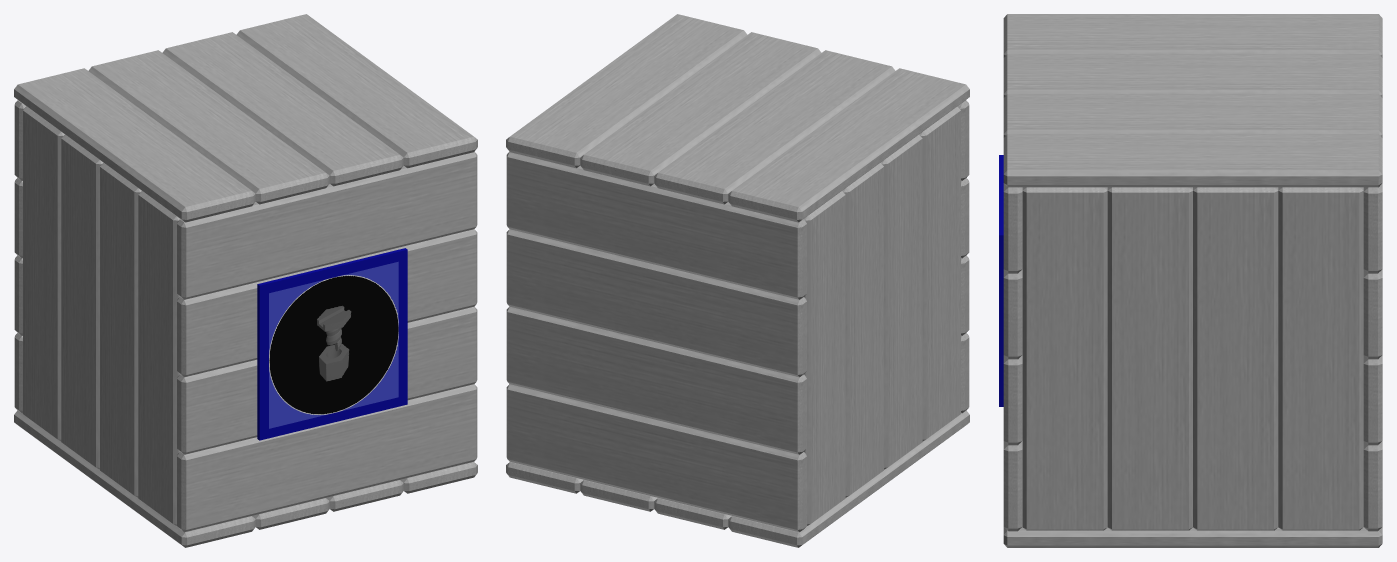
Rendered from Crate Blue.fbx.
The picture shows the model from 3 angles, left to right: view 1: azimuth 30°, elevation 25°; view 2: azimuth 150°, elevation 25°; view 3: azimuth 270°, elevation 25°; orthographic projection. The views are drawn at different scales.
Visible parts, largest first — view 1: group3_pasted__group_pasted__pCube1; view 2: group3_pasted__group_pasted__pCube1; view 3: group3_pasted__group_pasted__pCube1.
Part boxes in pixels (x1,y1,x2,y2): group3_pasted__group_pasted__pCube1: (14, 14, 477, 547); group3_pasted__group_pasted__pCube1: (506, 14, 969, 547); group3_pasted__group_pasted__pCube1: (999, 14, 1382, 547).
Bounding box in the file's own units: 4 × 4.4 × 4.06.
Materials: 3 (2 with a texture image).
